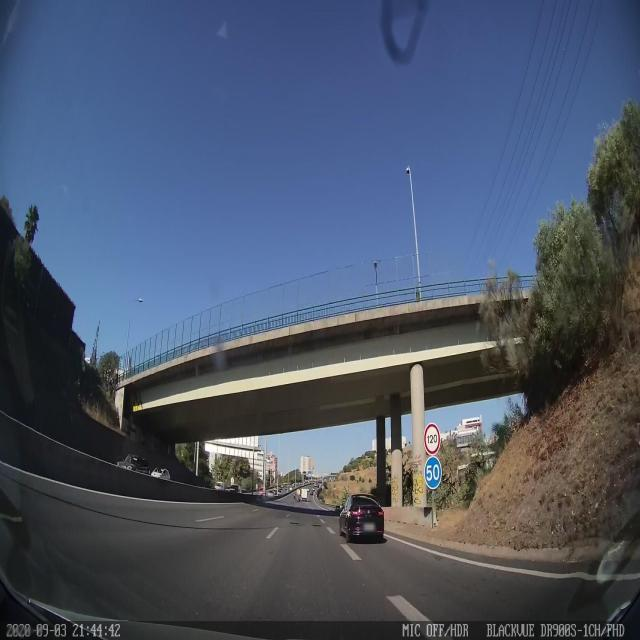car: (339, 493, 385, 544), (300, 488, 309, 502)
